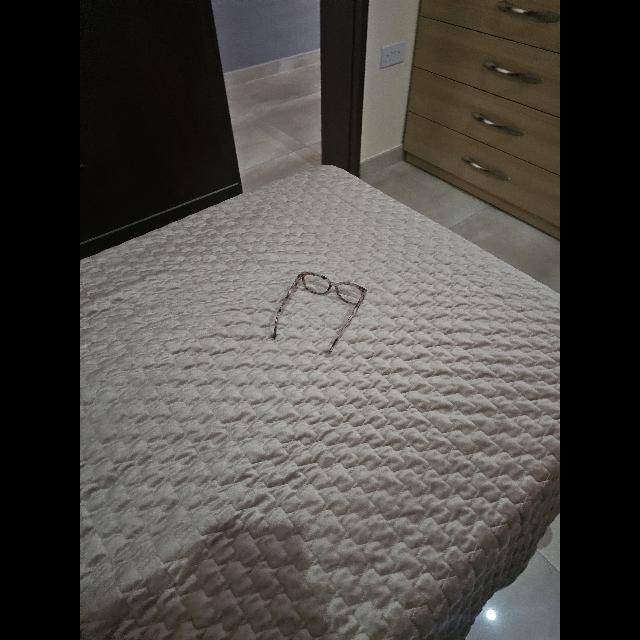glasses: (272, 272, 368, 352)
